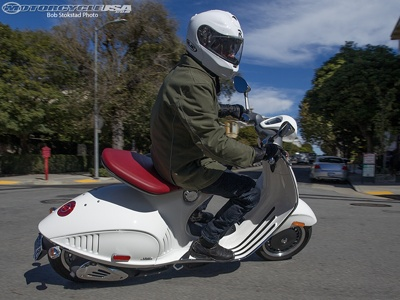helmet: (185, 6, 249, 82)
